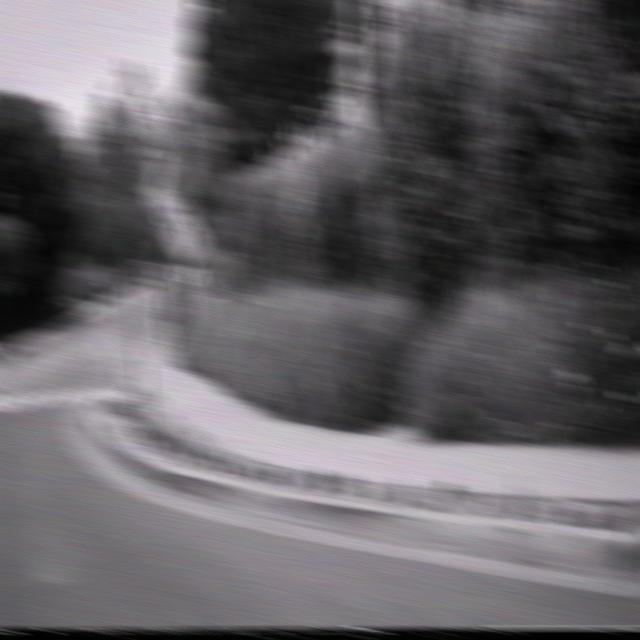pedestrianCrossing: (166, 206, 205, 268)
